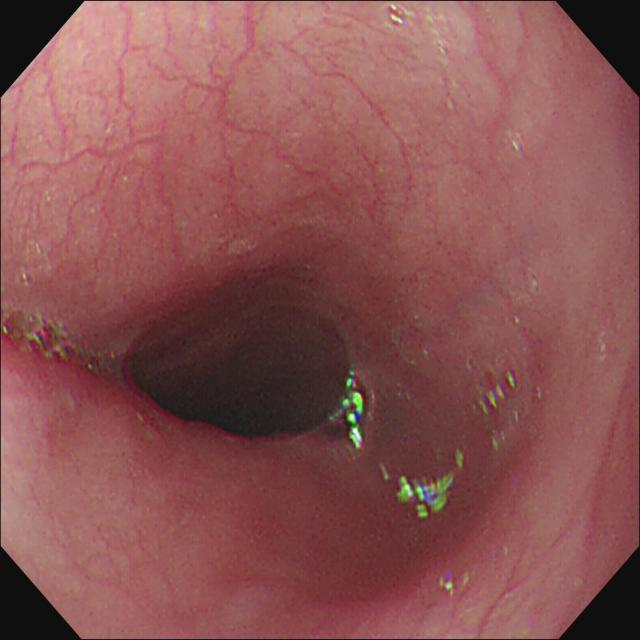E: (107, 256, 374, 462)
T: (2, 304, 114, 367), (384, 5, 414, 33)
U: (334, 370, 367, 452), (397, 474, 457, 519), (477, 369, 520, 413)
